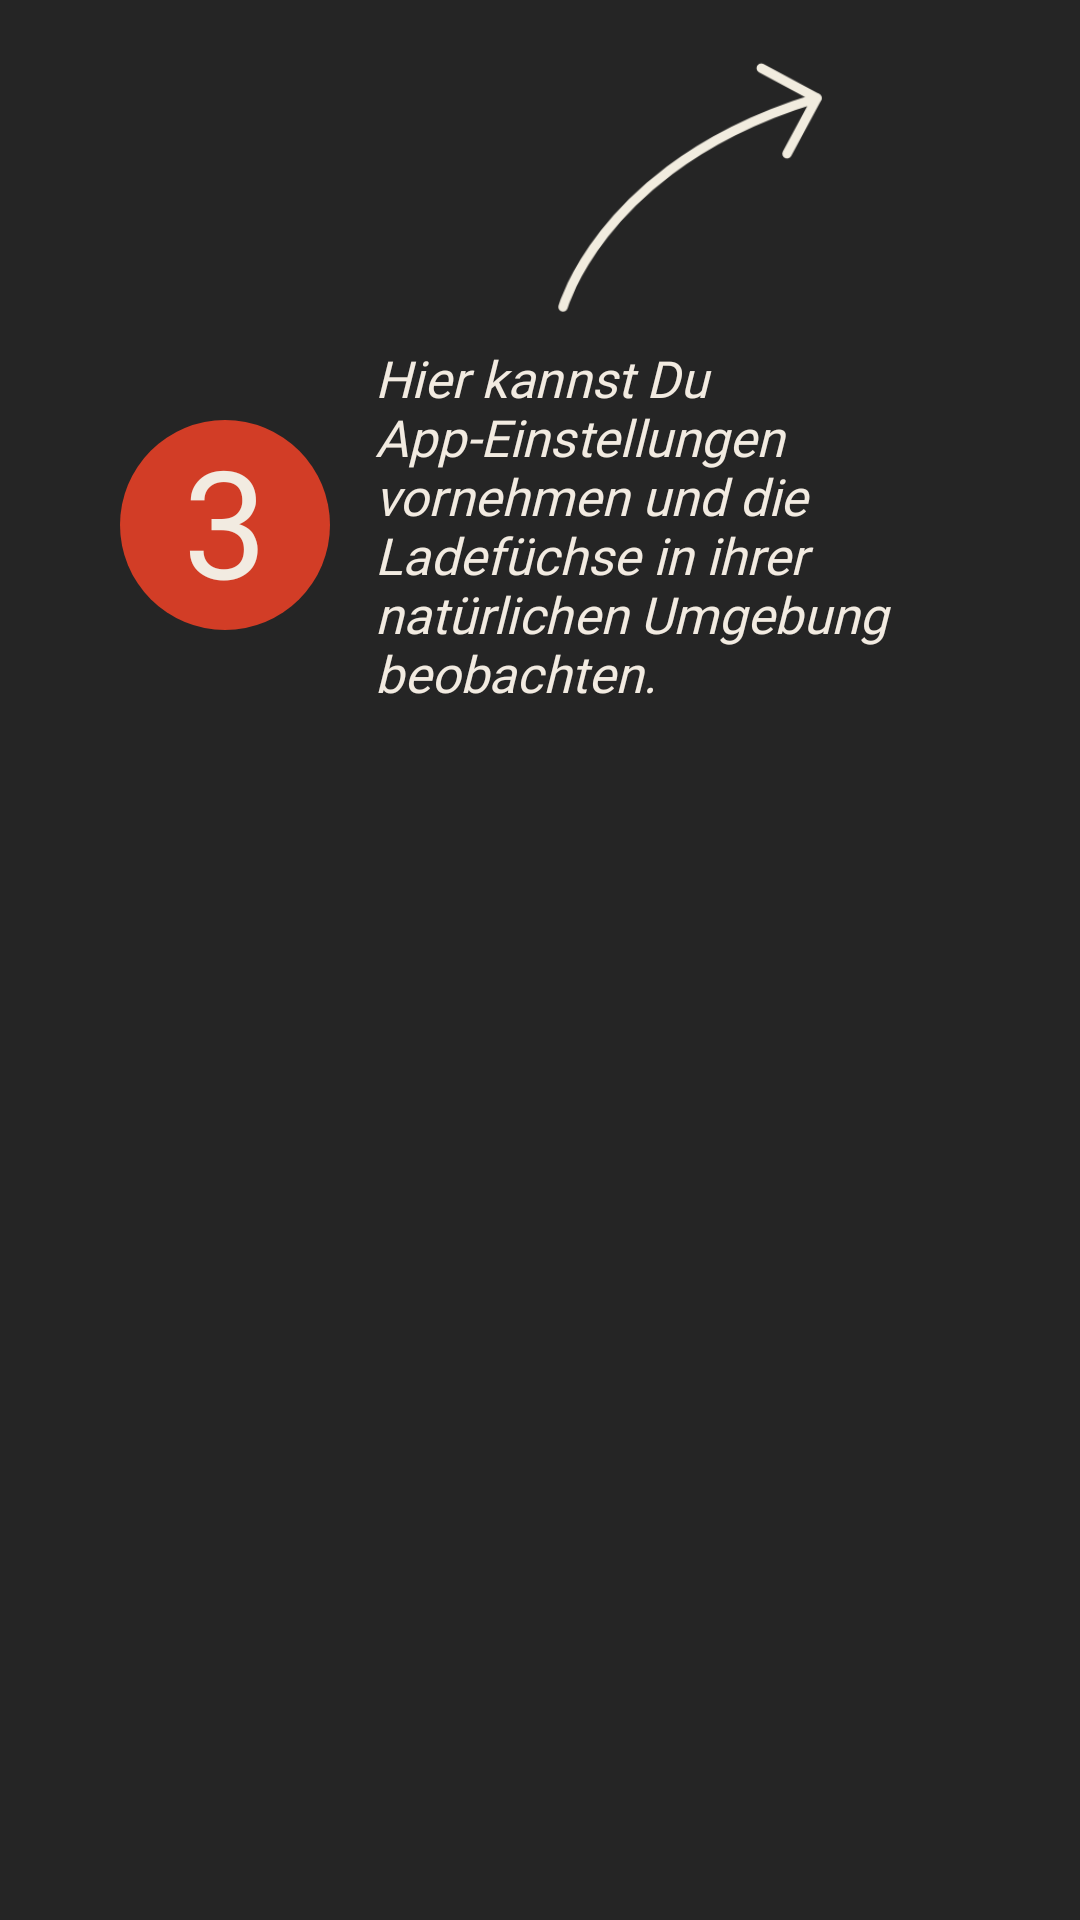

Where to tap for icons on this 1080w x 1920h app screen, as [x,y]:
onboarding arrow: [690,187]
